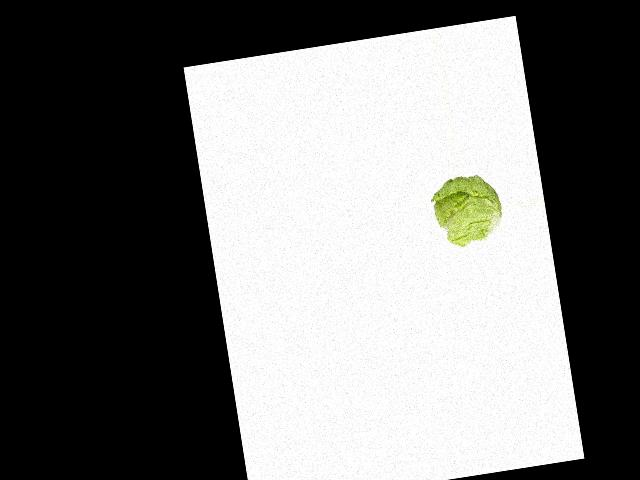lettuce: (429, 171, 508, 247)
